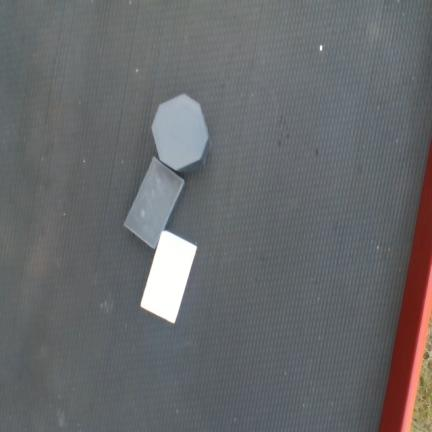Paralelepipedo: (123, 156, 187, 250), (139, 231, 198, 325)
Prisma_hexagonal: (151, 93, 211, 172)
